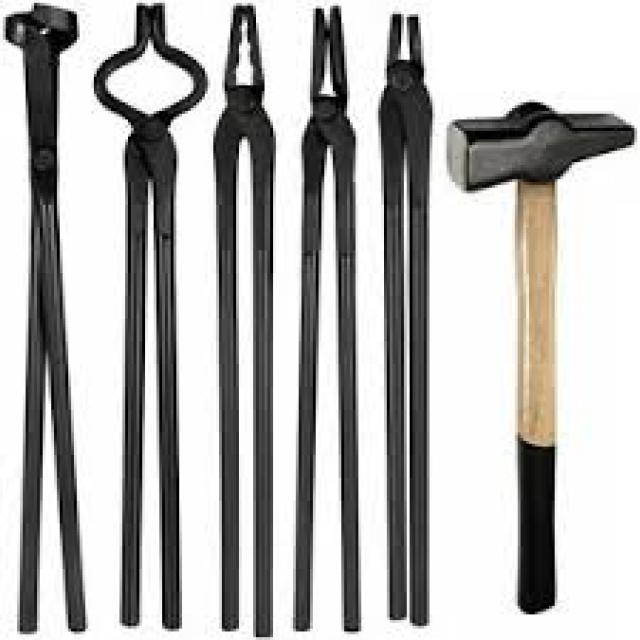hammer: (438, 97, 640, 620)
